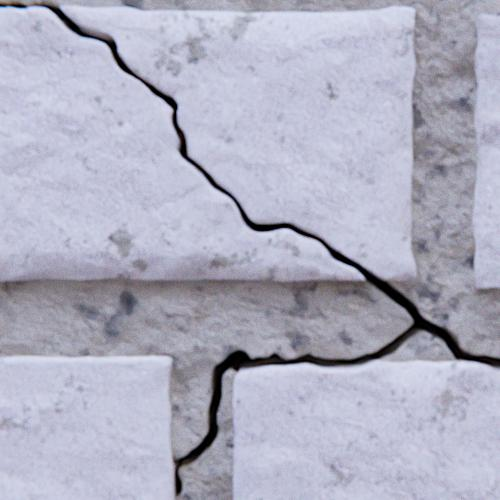brick: (0, 356, 174, 499), (472, 15, 499, 288)
broken_brick: (0, 9, 364, 280), (62, 7, 415, 280), (234, 360, 499, 499)
crack: (0, 0, 499, 498)
